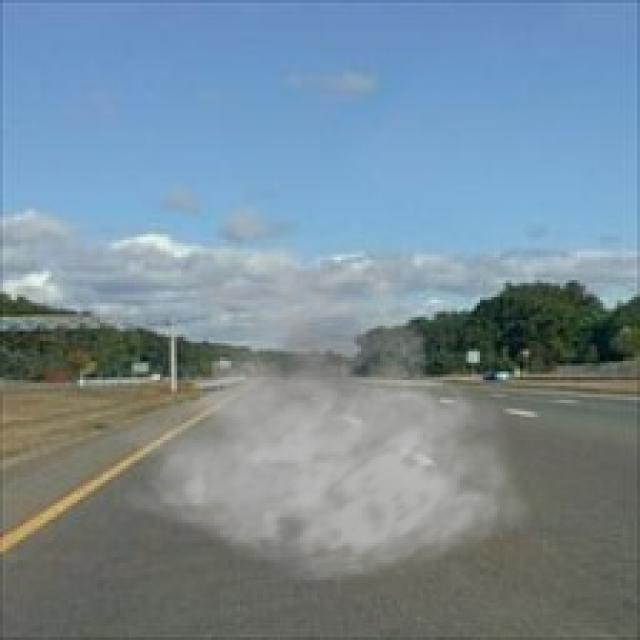smoke: (114, 237, 532, 583)
